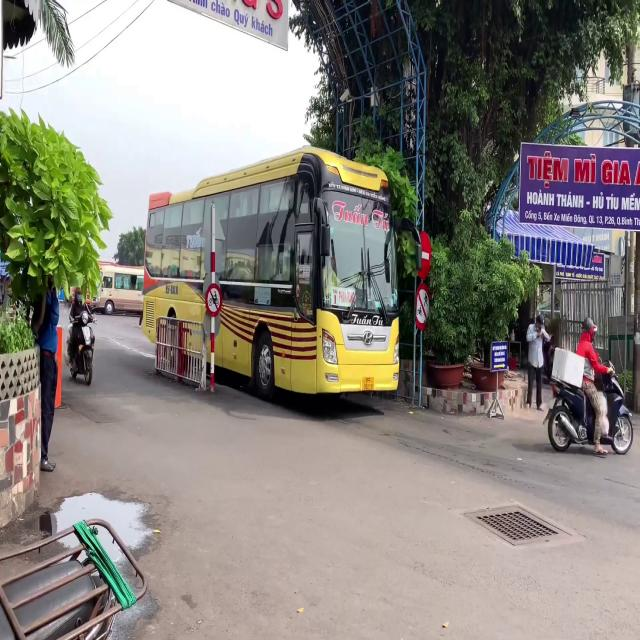bien_vang: (362, 375, 376, 392)
